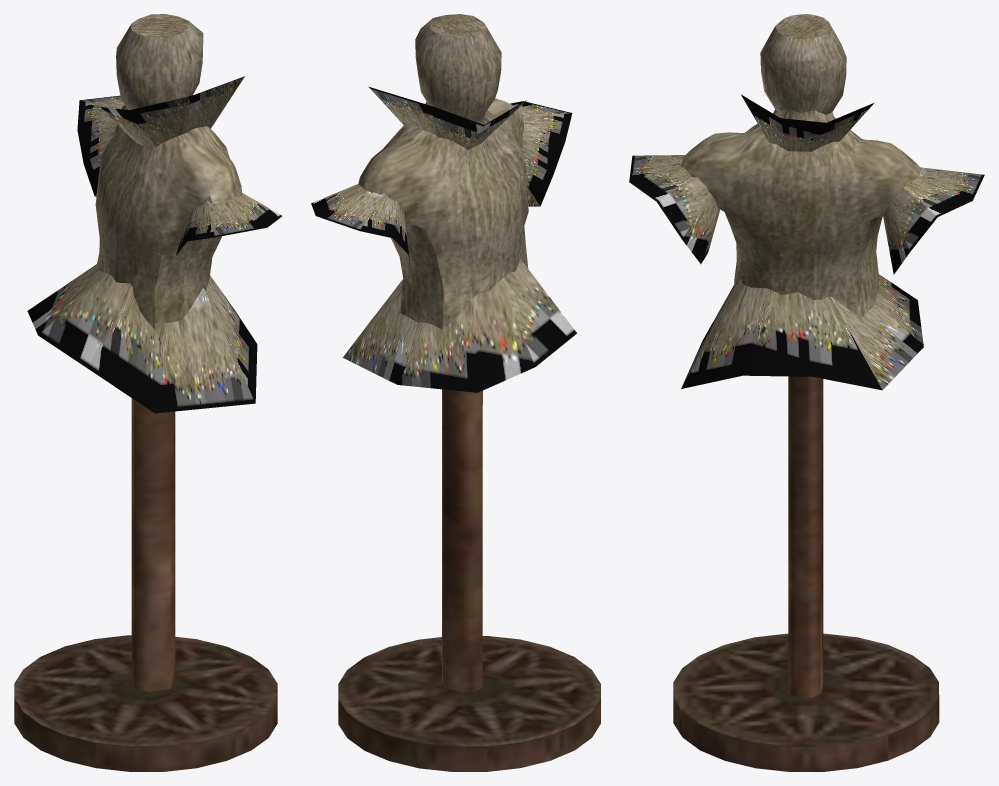
Rendered from o_mdl_env_propTrainingMeleeA-transformed.glb.
3 views of the same model, side by side, from view 1: azimuth 30°, elevation 25°; view 2: azimuth 150°, elevation 25°; view 3: azimuth 270°, elevation 25° (orthographic).
Visible parts, largest first — view 1: default; view 2: default; view 3: default.
Part boxes in pixels (<box>): default: <box>14,14,282,771</box>; default: <box>311,14,600,771</box>; default: <box>629,14,984,771</box>.
Bounding box in the file's own units: 0.6295 × 1.84 × 0.8416.
2 materials, 2 textured.
